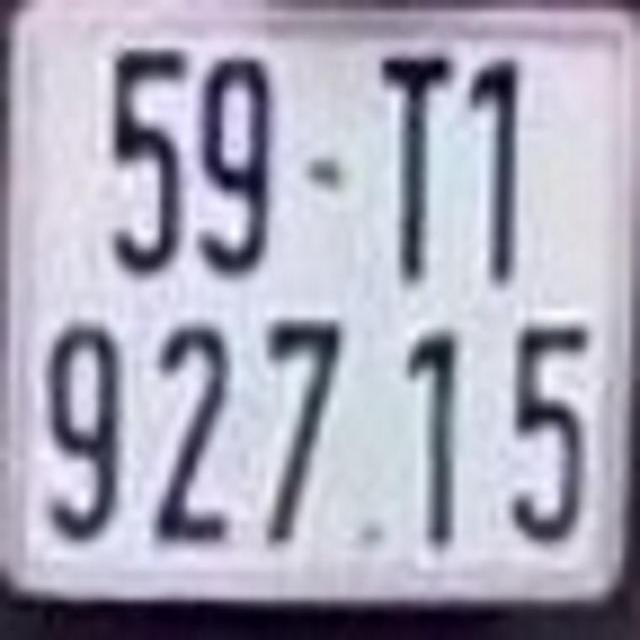1: (466, 49, 530, 290), (399, 327, 460, 544)
2: (153, 315, 231, 536)
5: (509, 320, 590, 545), (107, 41, 184, 272)
7: (258, 316, 344, 540)
9: (36, 318, 122, 536), (197, 47, 270, 273)
T: (369, 44, 455, 287)
